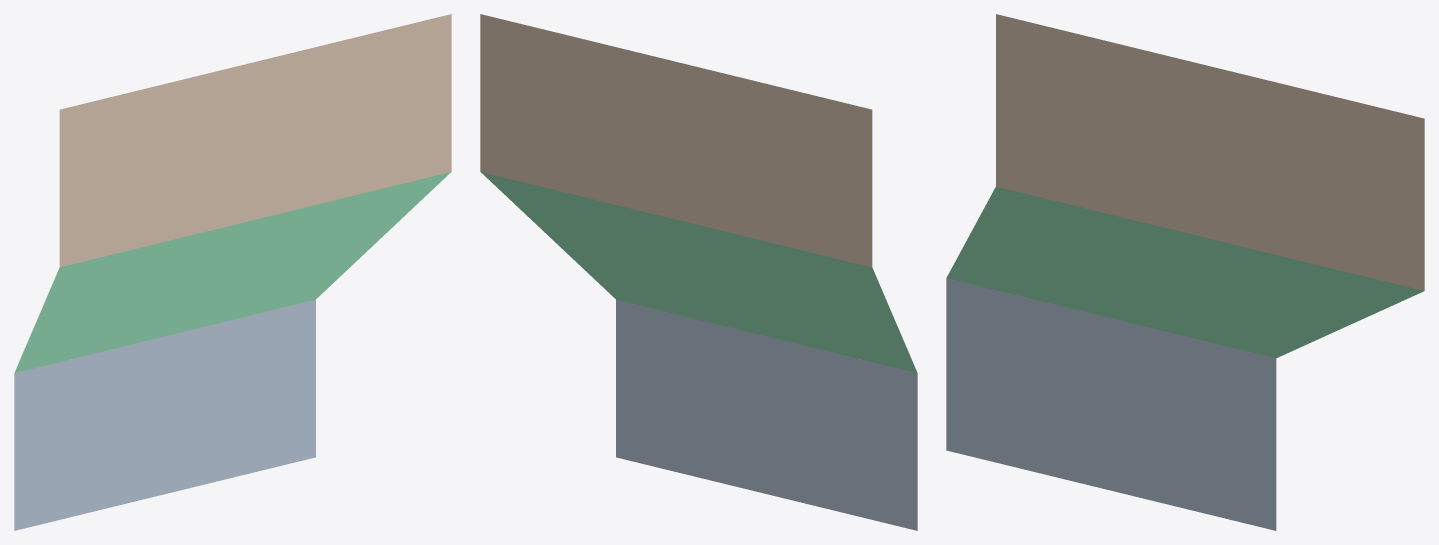
Rendered from scenario2-reversed.glb.
3 views of the same model, side by side, from view 1: azimuth 30°, elevation 25°; view 2: azimuth 150°, elevation 25°; view 3: azimuth 330°, elevation 25° (orthographic). The views are drawn at different scales.
Visible parts, largest first — view 1: scenario2-reversed-boundary; view 2: scenario2-reversed-boundary; view 3: scenario2-reversed-boundary.
Boxes of the visible parts, <box> form: scenario2-reversed-boundary: <box>14,14,451,530</box>; scenario2-reversed-boundary: <box>480,14,917,530</box>; scenario2-reversed-boundary: <box>946,14,1424,530</box>.
Bounding box in the file's own units: 2.9 × 2.6 × 0.
